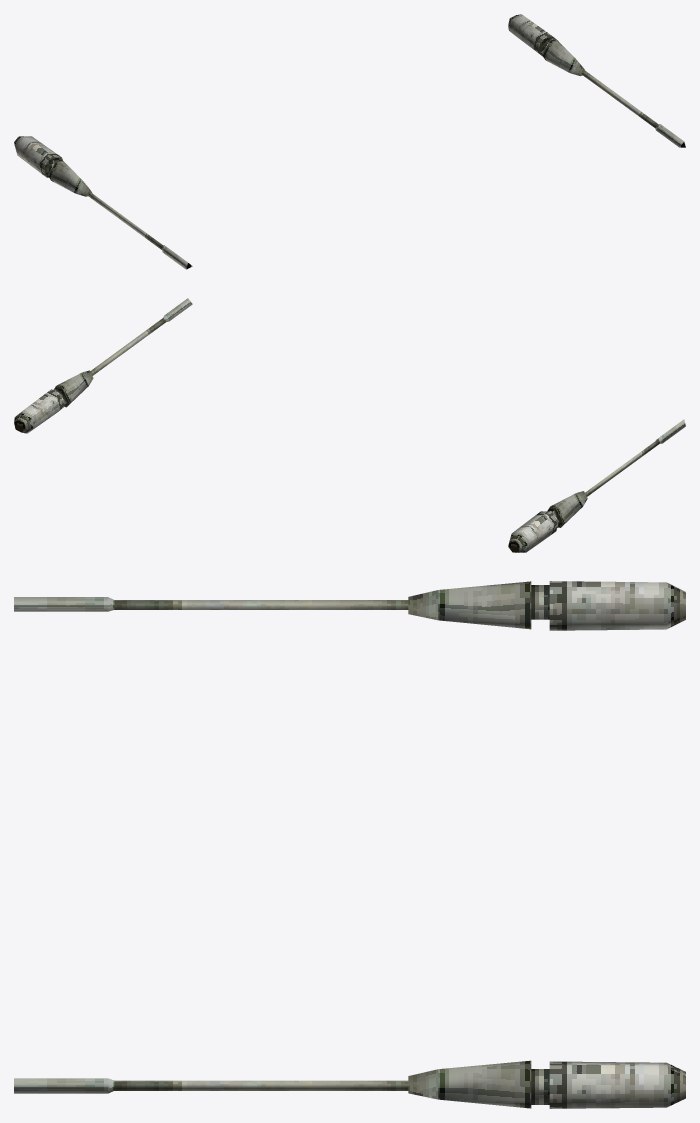
The model's file is z95_weapon_s05_l2.fbx.
3 renders of one model, top to bottom at view 1: azimuth 30°, elevation 25°; view 2: azimuth 150°, elevation 25°; view 3: azimuth 270°, elevation 25°, orthographic. The views are drawn at different scales.
Visible parts, largest first — view 1: mesh_node; view 2: mesh_node; view 3: mesh_node.
Part boxes in pixels (left/top/right/bottom): mesh_node: left=14, top=14, right=685, bottom=269; mesh_node: left=14, top=298, right=685, bottom=552; mesh_node: left=14, top=581, right=685, bottom=1108.
Bounding box in the file's own units: 15.35 × 0.632 × 8.72.
